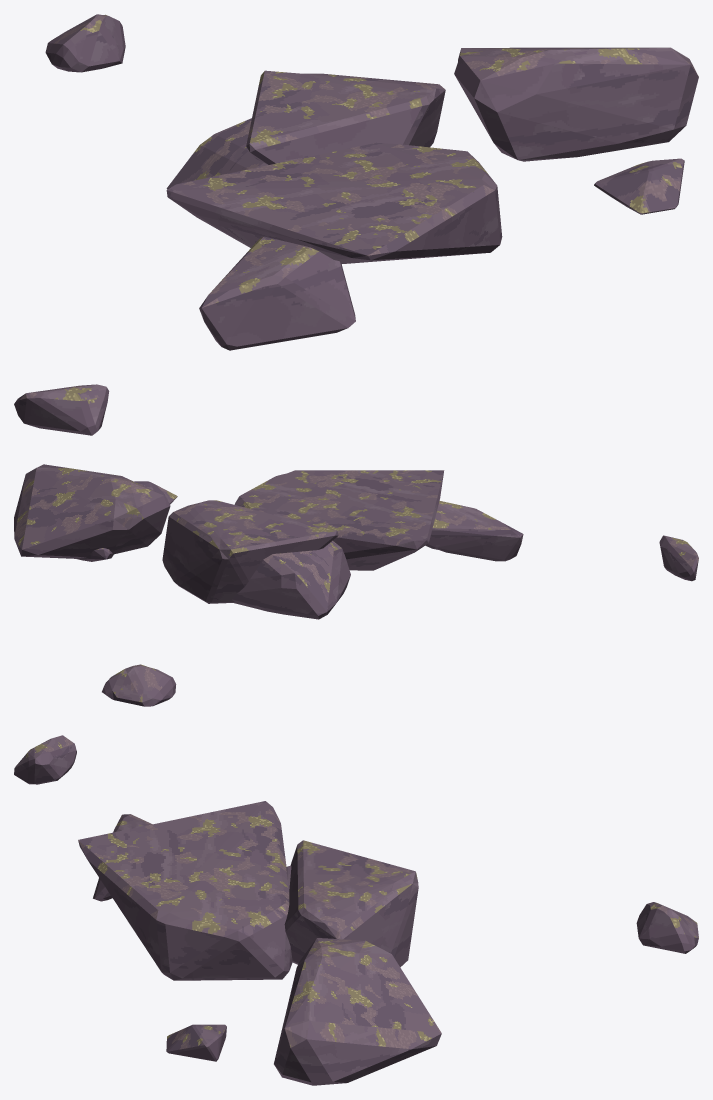
Rendered from P01_Pebbles_A.fbx.
The picture shows the model from 3 angles, top to bottom: view 1: azimuth 30°, elevation 25°; view 2: azimuth 150°, elevation 25°; view 3: azimuth 270°, elevation 25°; orthographic projection. The views are drawn at different scales.
Visible parts, largest first — view 1: P01A_0, P01A_8, P01A_2, P01A_7, P01A_1, P01A_6, P01A_4, P01A_3; view 2: P01A_0, P01A_8, P01A_2, P01A_3, P01A_7, P01A_6, P01A_1; view 3: P01A_0, P01A_8, P01A_2, P01A_6, P01A_1, P01A_4, P01A_7.
Boxes of the visible parts, box(x1,y1,x2,y2) form: P01A_0: box(166, 142, 502, 263); P01A_8: box(454, 47, 698, 161); P01A_2: box(246, 70, 445, 164); P01A_7: box(199, 236, 355, 350); P01A_1: box(14, 384, 109, 435); P01A_6: box(45, 14, 125, 72); P01A_4: box(594, 158, 684, 214); P01A_3: box(166, 118, 301, 189); P01A_0: box(234, 470, 444, 570); P01A_8: box(14, 464, 170, 558); P01A_2: box(162, 500, 338, 603); P01A_3: box(232, 540, 350, 619); P01A_7: box(425, 501, 523, 561); P01A_6: box(102, 664, 176, 706); P01A_1: box(659, 535, 698, 581); P01A_0: box(78, 801, 292, 980); P01A_8: box(274, 938, 441, 1085); P01A_2: box(284, 840, 418, 967); P01A_6: box(636, 902, 698, 953); P01A_1: box(14, 735, 76, 784); P01A_4: box(166, 1024, 226, 1061); P01A_7: box(93, 814, 152, 901).
Bounding box in the file's own units: 0.9764 × 0.1124 × 0.8569.
